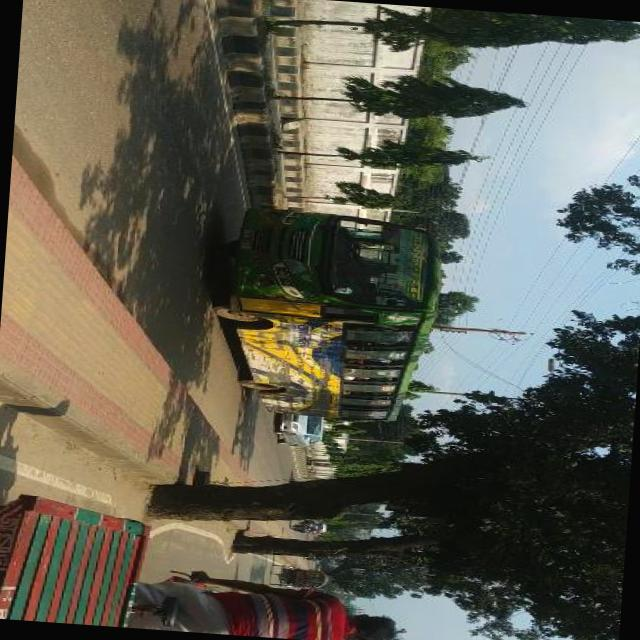bus: (212, 203, 448, 426)
car: (276, 412, 326, 448)
motorcycle: (272, 562, 331, 590), (290, 522, 314, 532)
